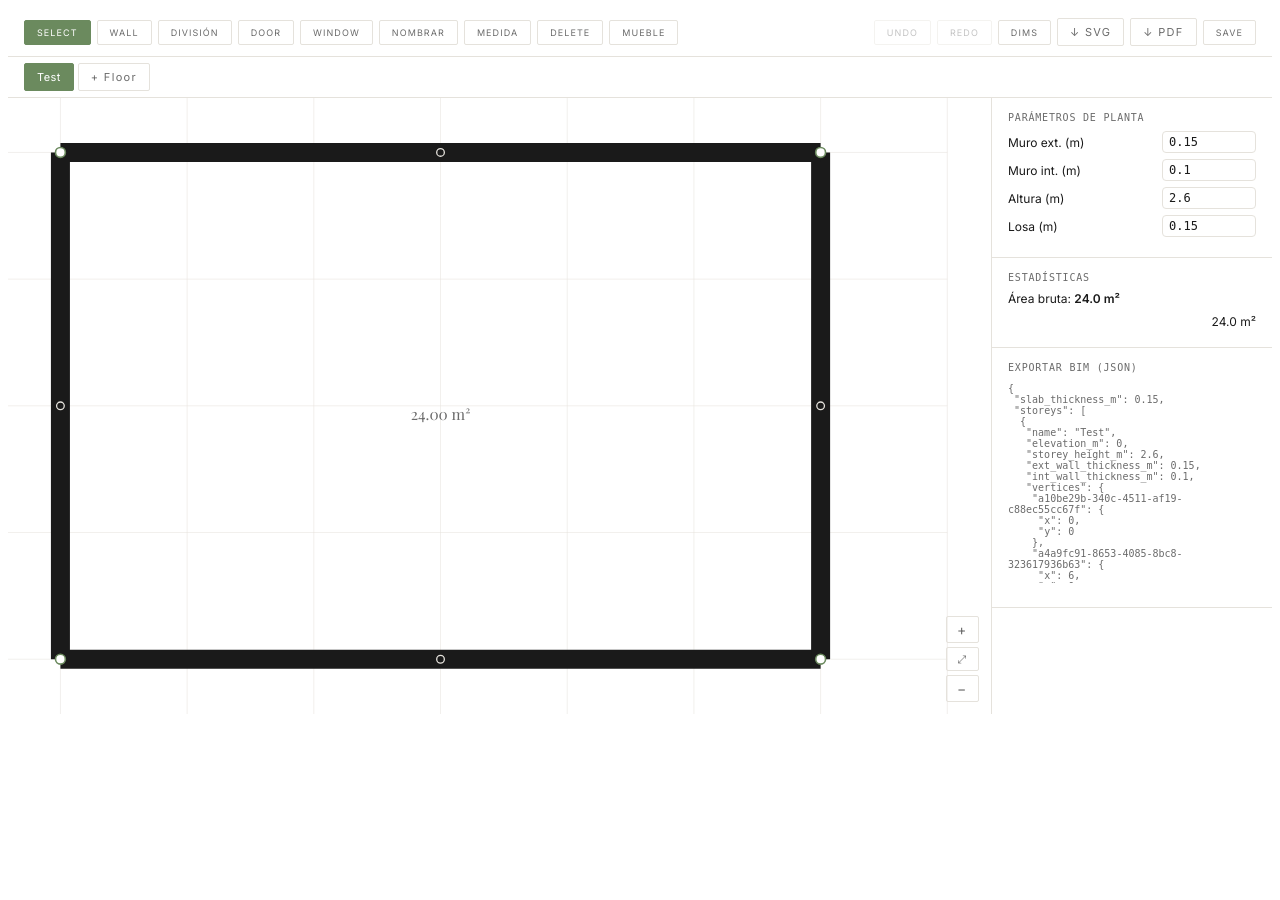
Test: wall tool default length › the wall button drops a 1 m wall, not one spanning the whole plan
Click the button "Dims" at (1024, 32), box 998,20 -> 1051,44
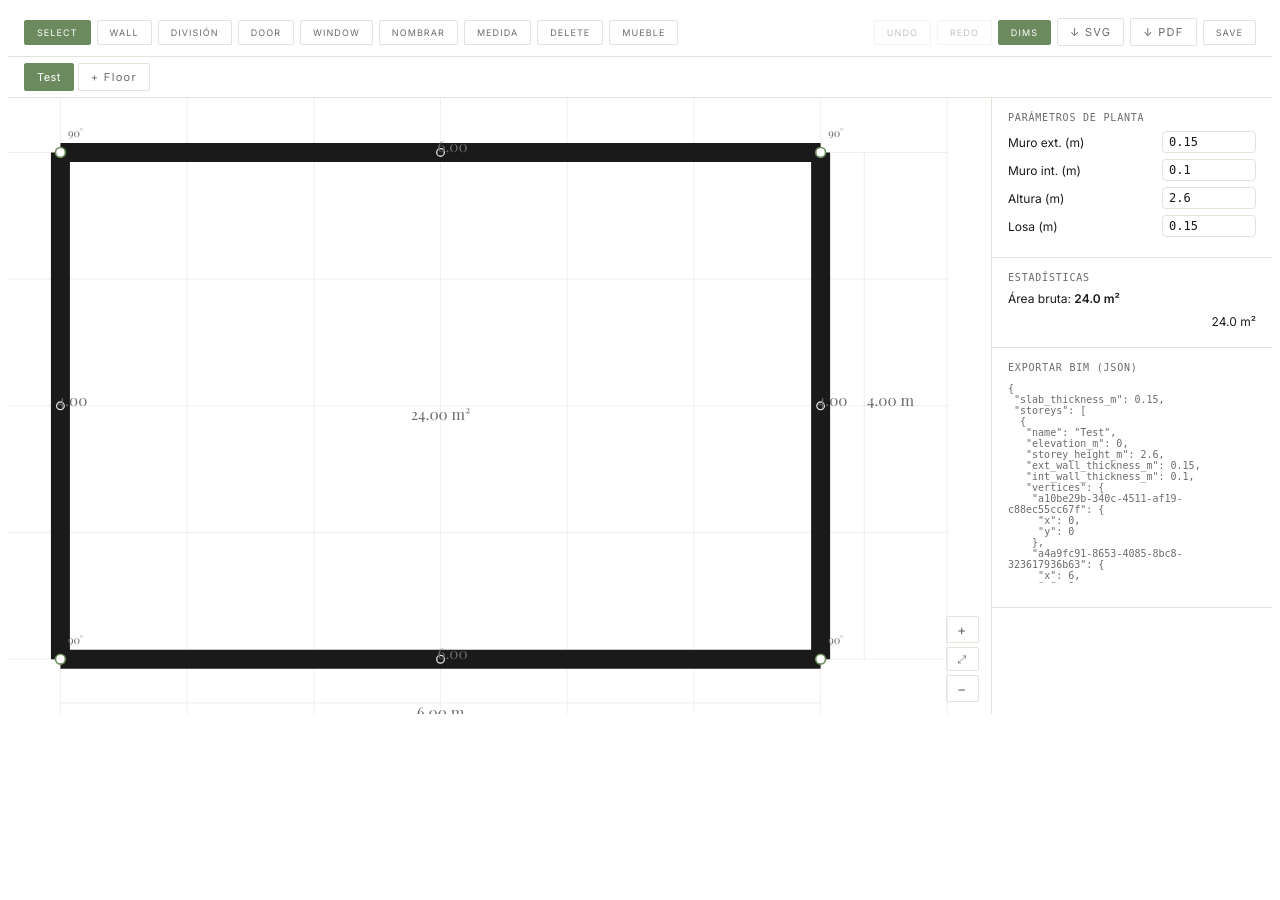
Expected: the icon does not show "1.00"
Click the button "wall" at (124, 32), box 96,20 -> 152,44
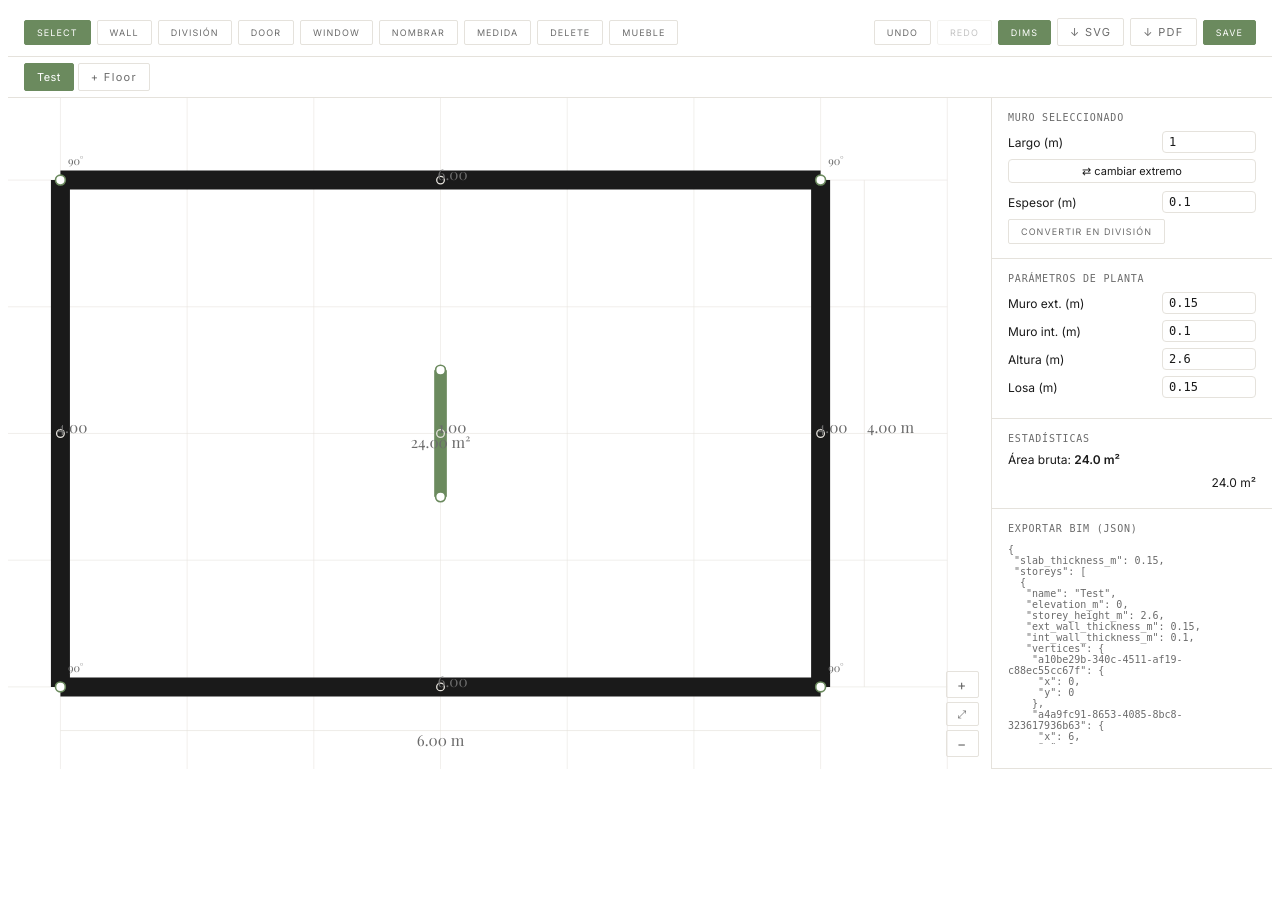
Expected: the icon shows "1.00", 439,416 -> 466,438
